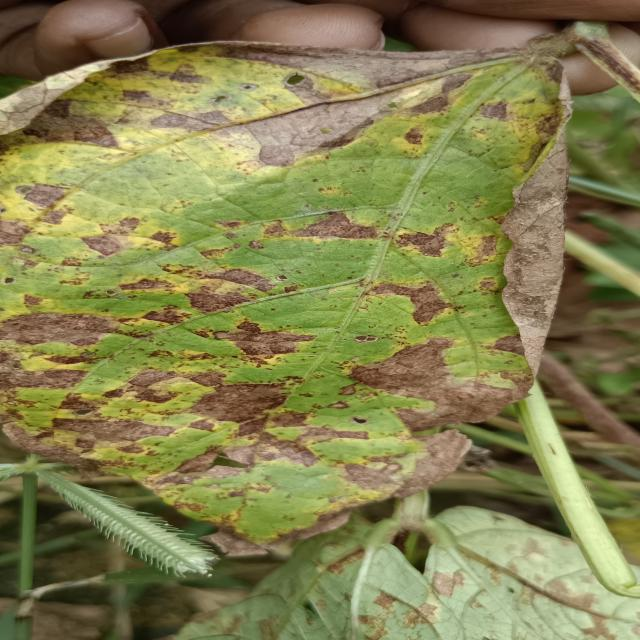Black gram_leaf spot: (0, 29, 607, 558)
